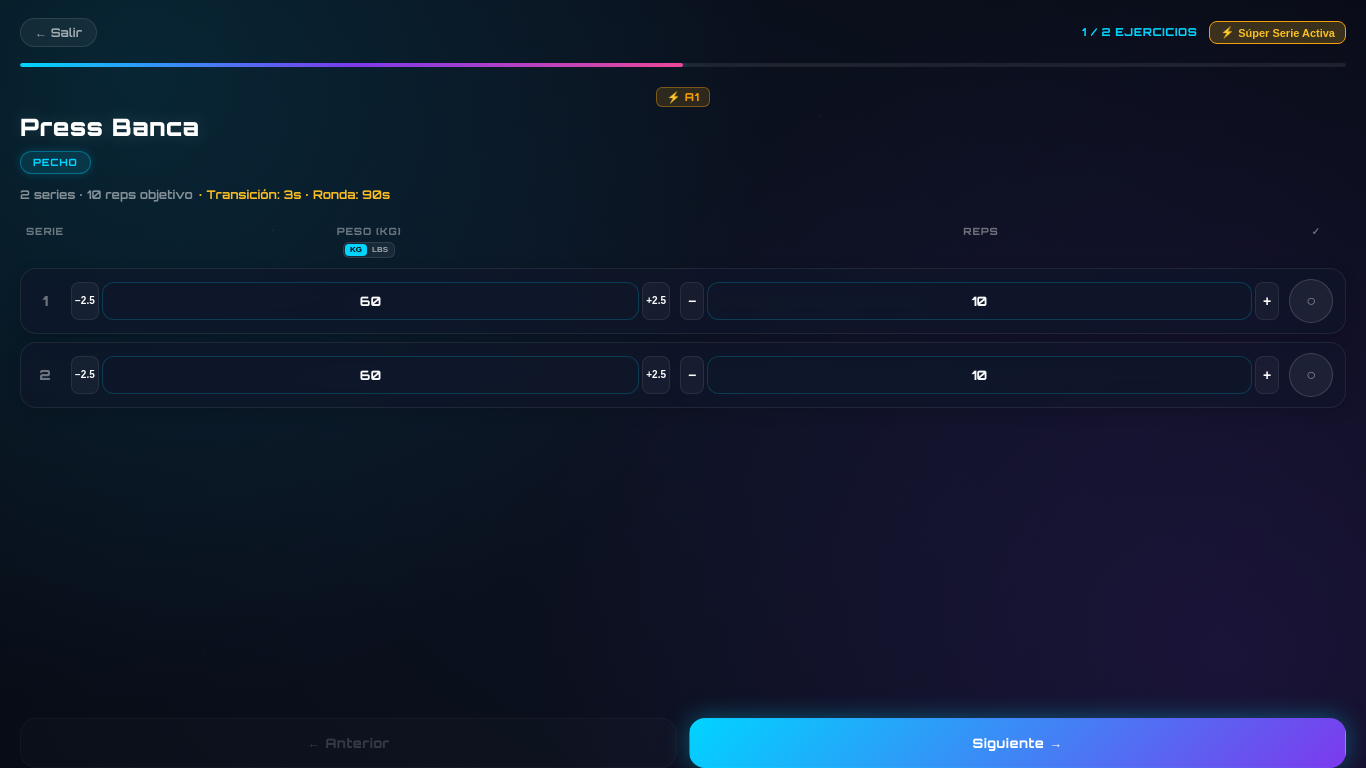
it: ActiveSession Component › oculta el botón "Ya estoy listo" en transiciones muy cortas (<5s) pero mantiene la etiqueta y el color
What coordinates should you click on to do the following:
click the button named "Marcar serie 1 como completada"
I would click on:
 (1311, 301)
Its box is [1289,279,1333,323].
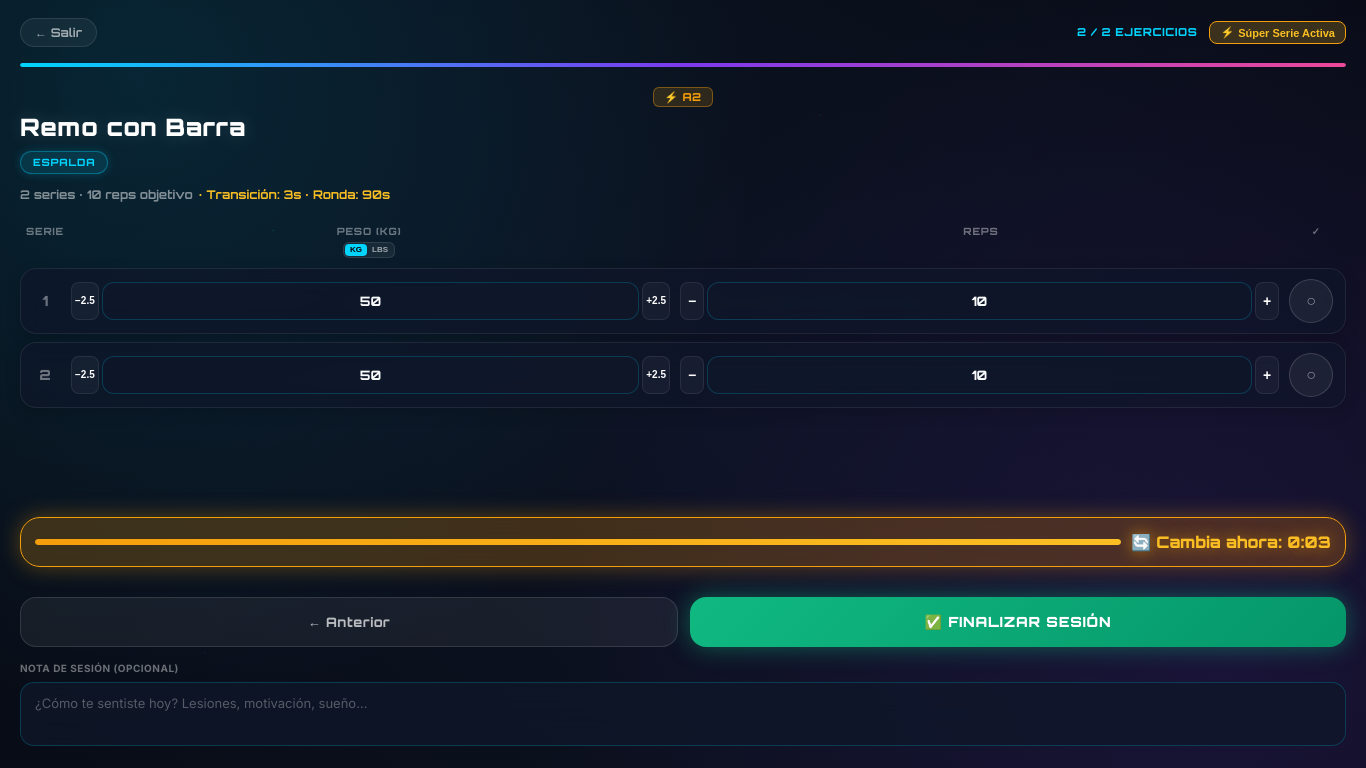
Now the text "🔄 Cambia ahora: 0:03" is shown, box [1131,530,1331,554]
